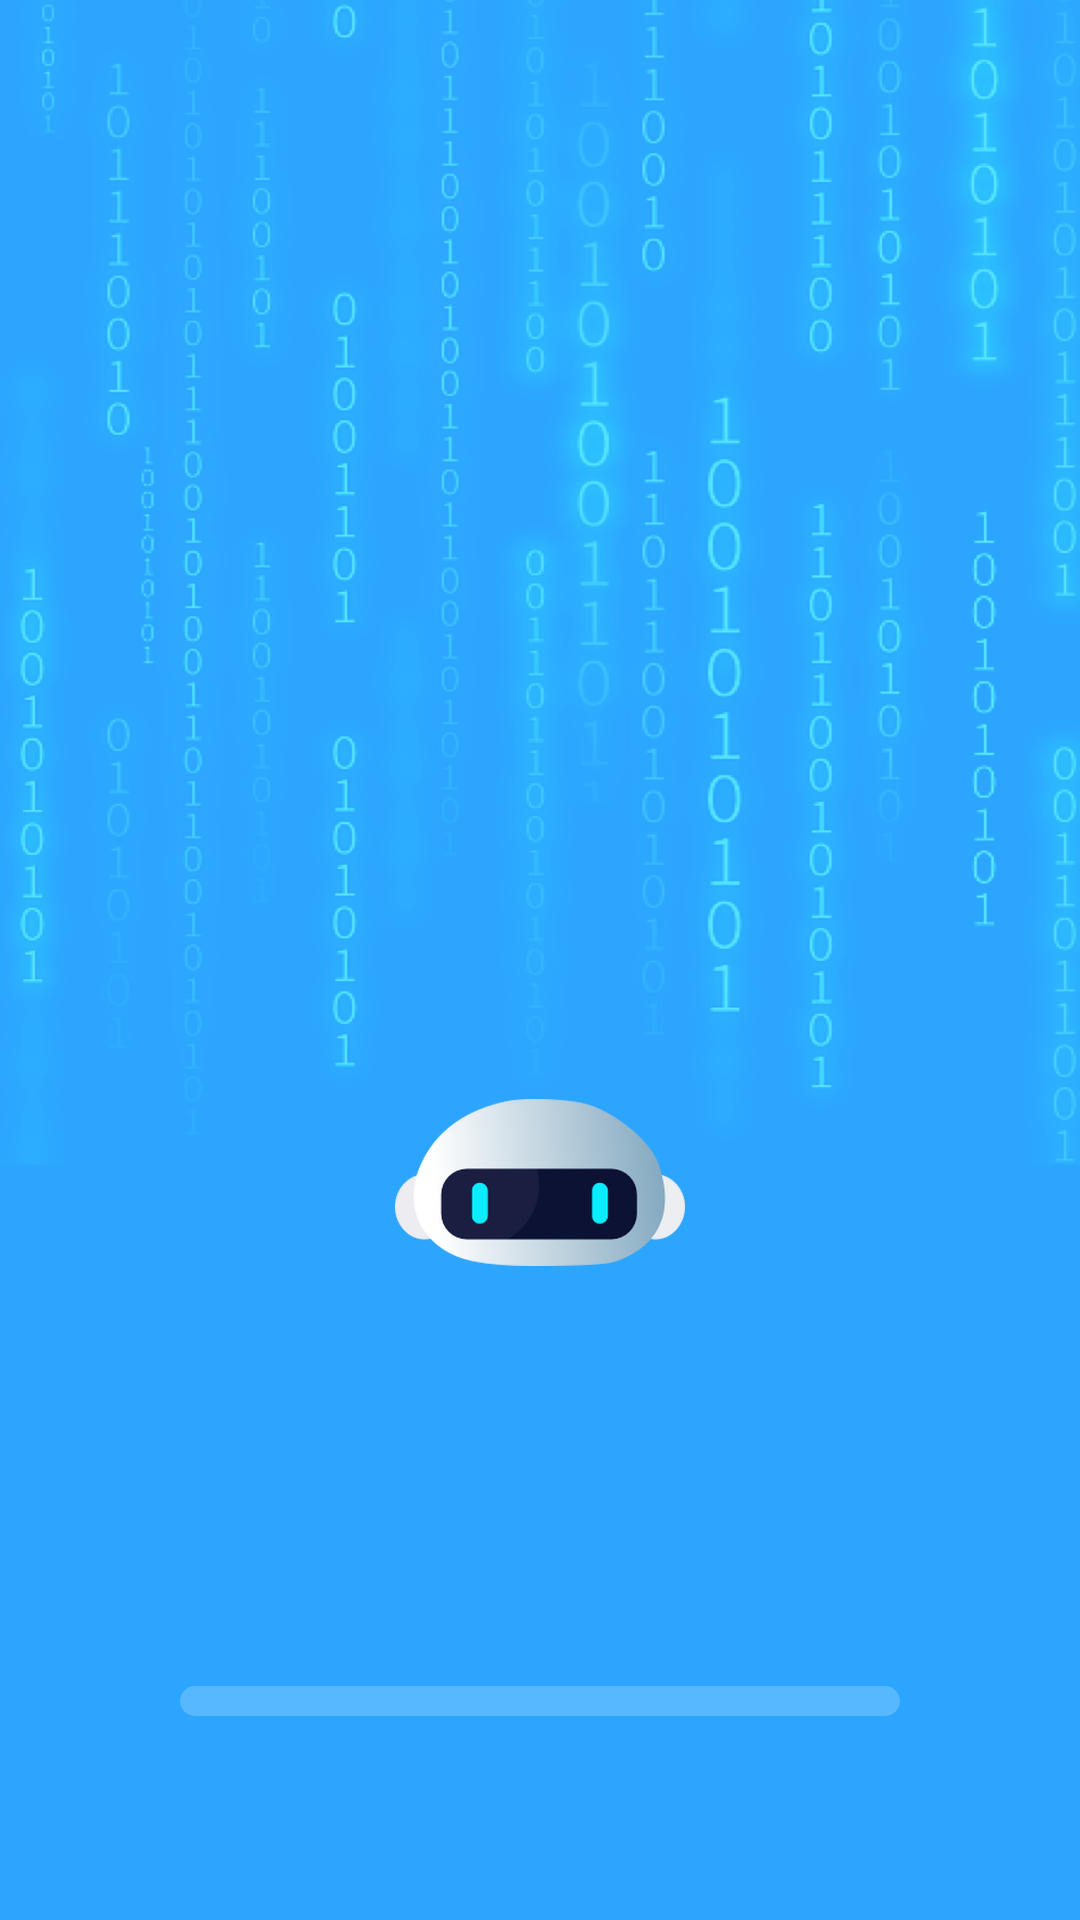

Where to tap for icons on this 1080px x 1920px app screen, as [x,y]:
setting robot: [540,1182]
